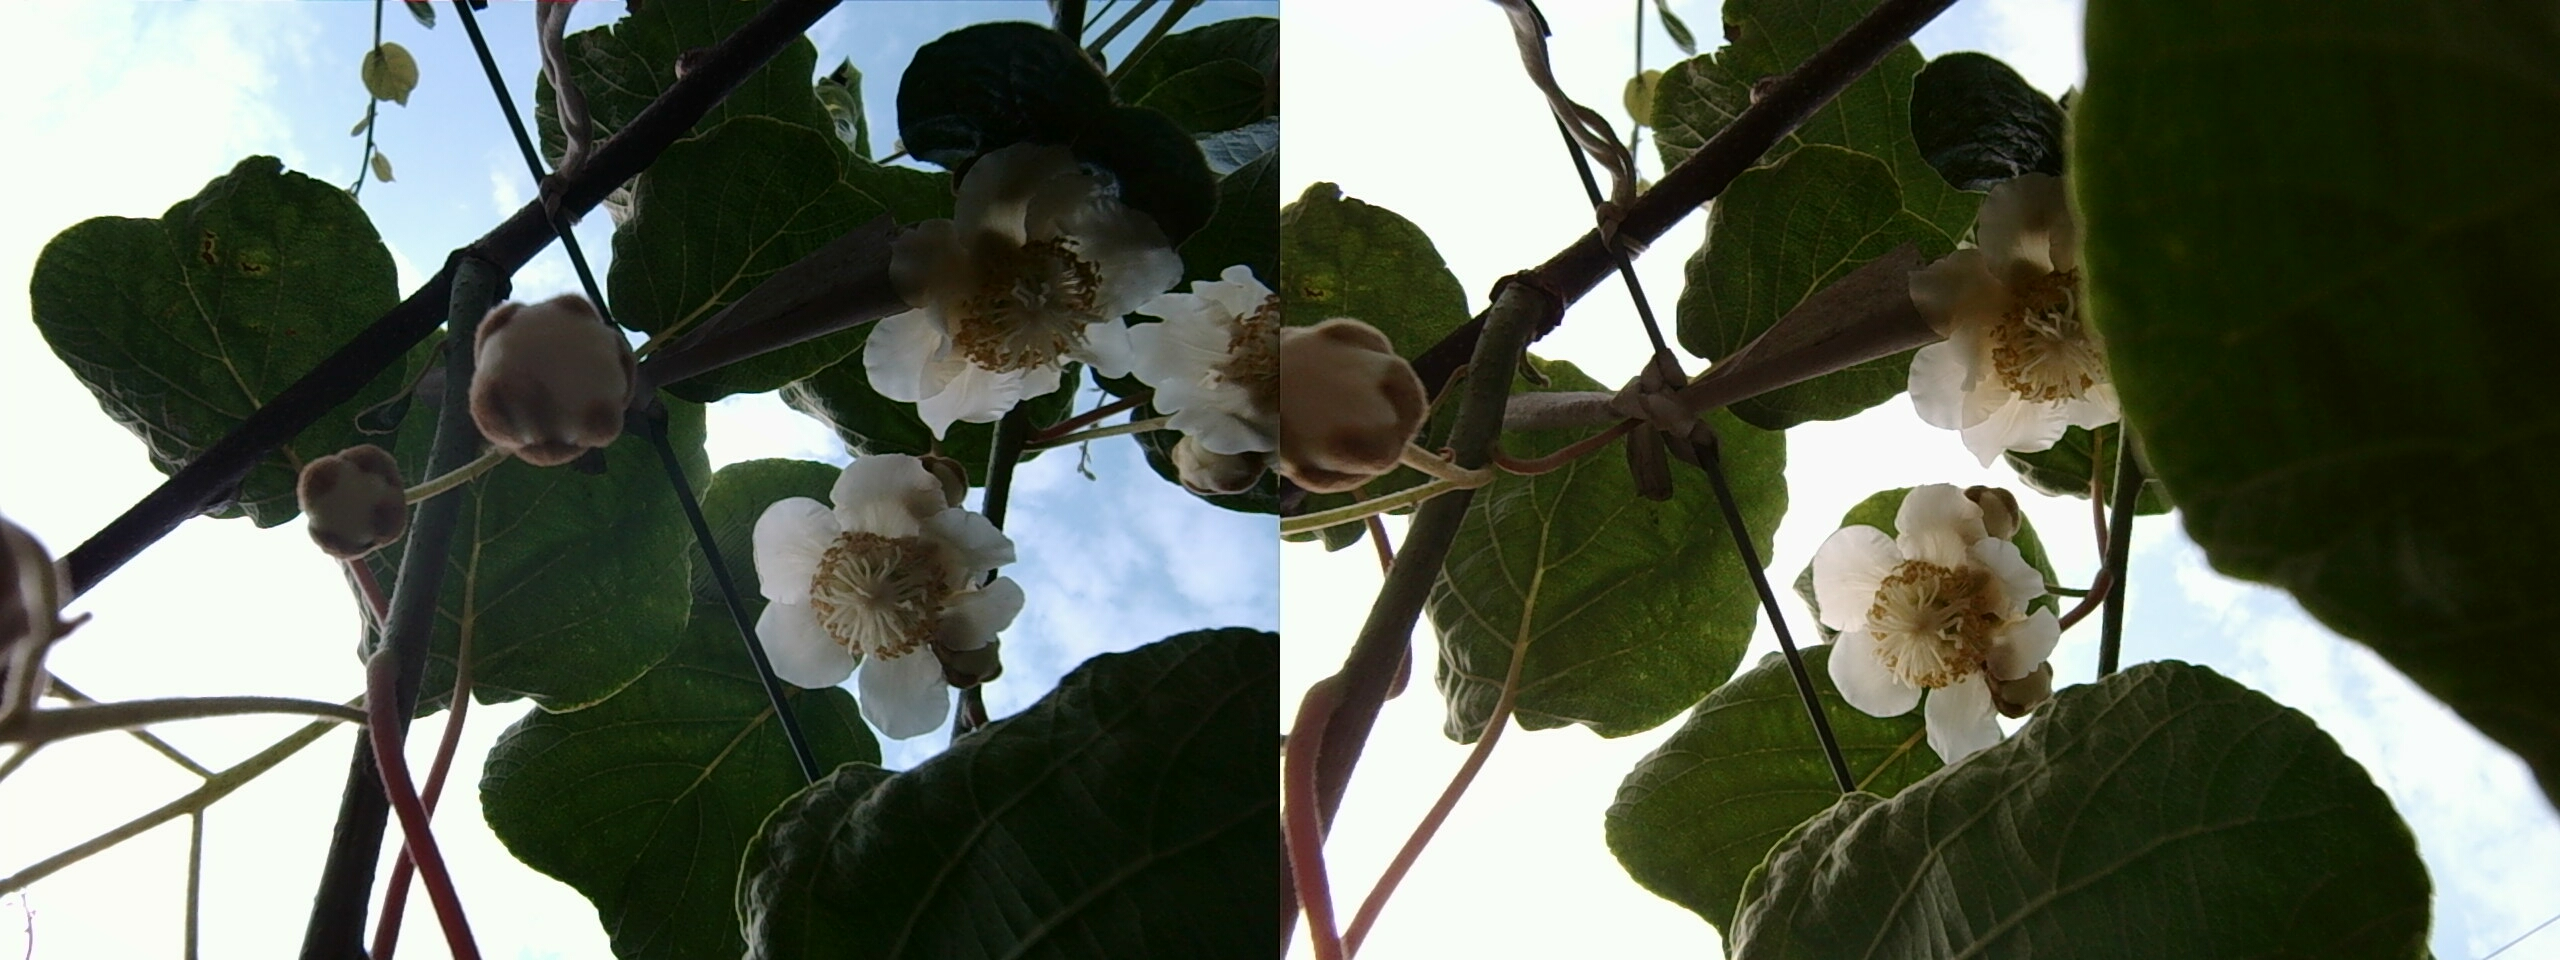flower: (847, 140, 1179, 433), (751, 456, 1038, 748), (1811, 487, 2083, 761), (1900, 173, 2153, 465)
